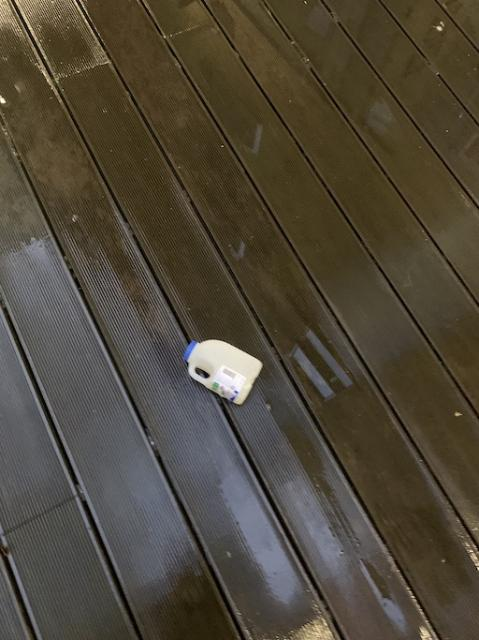plastic: (183, 338, 261, 403)
